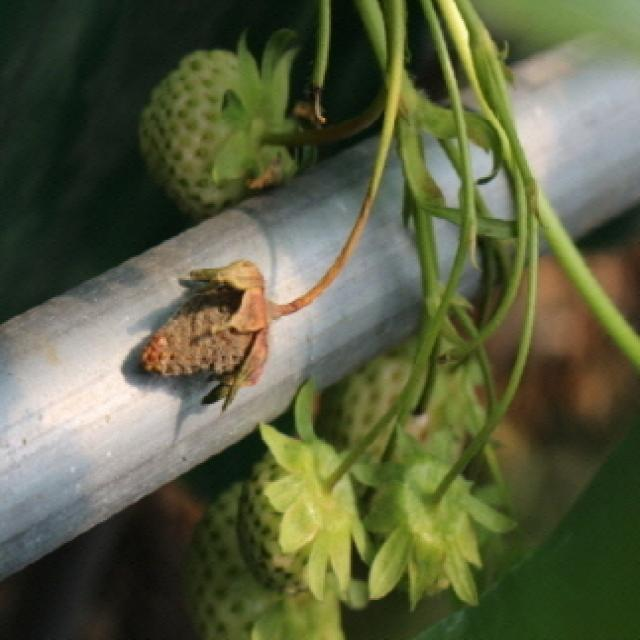Gray Mold: (137, 260, 285, 414)
